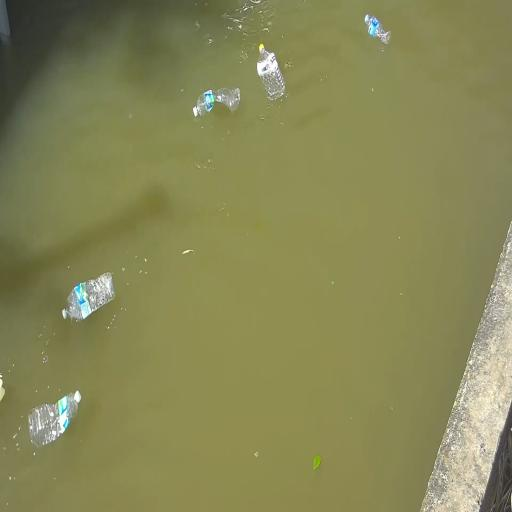plastic: (29, 391, 81, 447), (62, 273, 115, 321), (257, 44, 285, 100), (193, 88, 240, 116), (365, 14, 390, 44), (0, 376, 5, 401)
